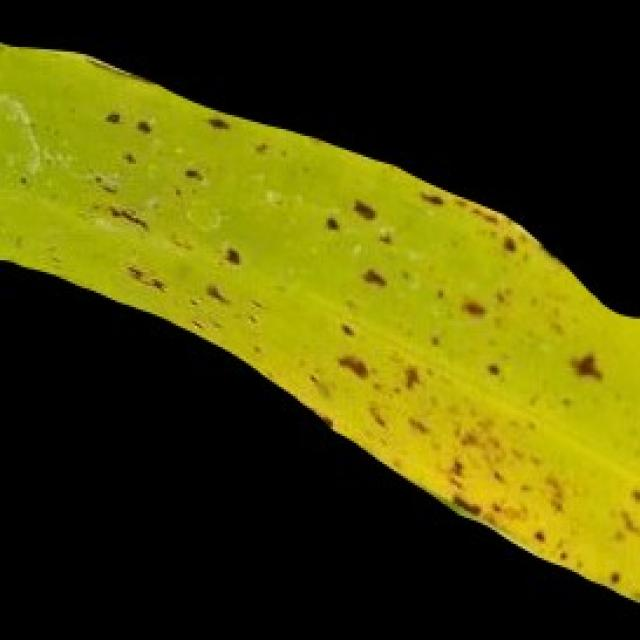mite: (82, 98, 617, 431), (98, 103, 124, 129), (178, 162, 204, 185), (319, 209, 342, 234), (183, 164, 202, 181), (134, 117, 152, 134), (324, 213, 340, 230), (103, 108, 120, 124)
spots: (0, 21, 638, 628)
